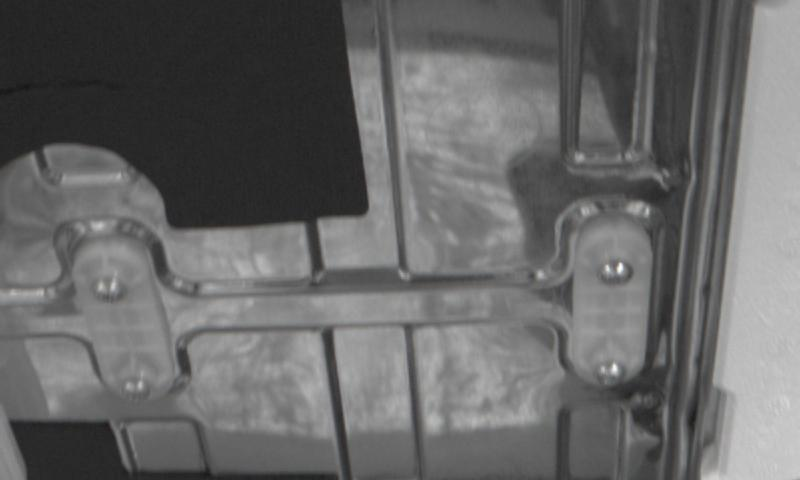vida-ok: (91, 267, 140, 312), (113, 373, 162, 413), (588, 353, 634, 393), (595, 249, 636, 293)
